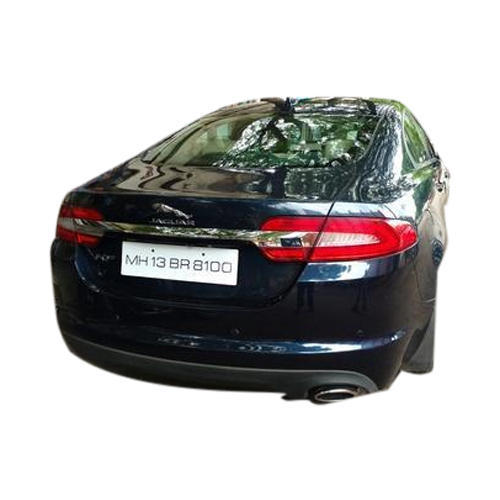numberplate: (118, 241, 239, 288)
